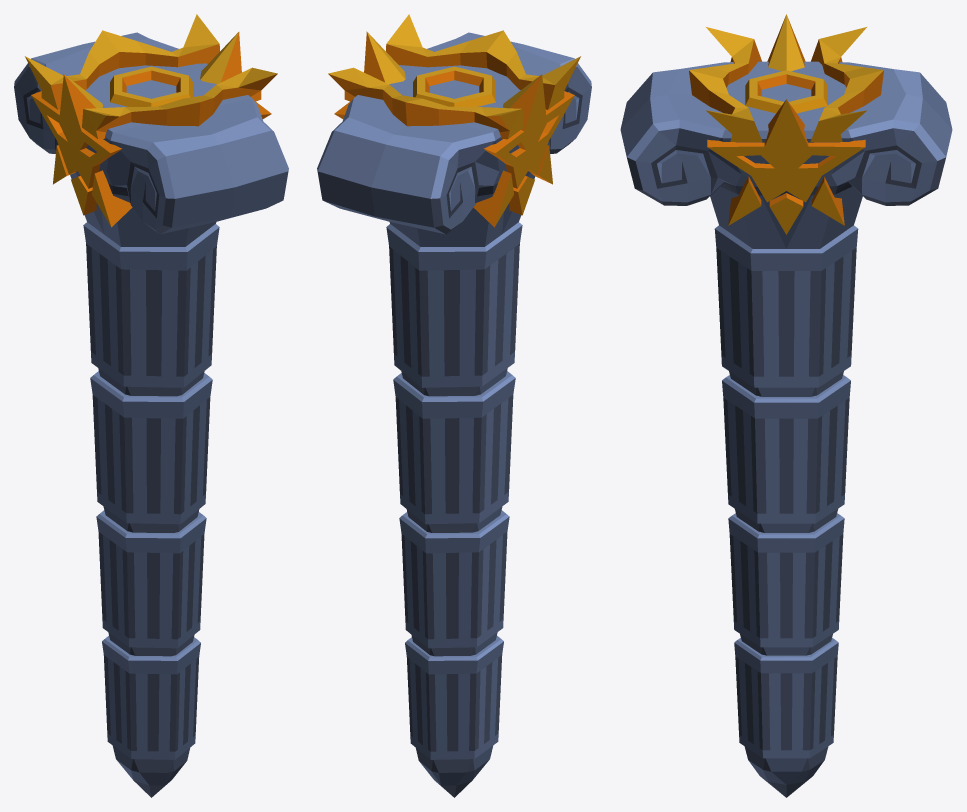
File: Prop_Pillar_Alternate.fbx
The picture shows the model from 3 angles, left to right: view 1: azimuth 30°, elevation 25°; view 2: azimuth 150°, elevation 25°; view 3: azimuth 270°, elevation 25°; orthographic projection.
Visible parts, largest first — view 1: MODEL_Shop_Pillar, MODEL_Shop_Pillar_01, MODEL_Shop_Pillar_02, MODEL_Shop_Pillar_03; view 2: MODEL_Shop_Pillar, MODEL_Shop_Pillar_01, MODEL_Shop_Pillar_02, MODEL_Shop_Pillar_03; view 3: MODEL_Shop_Pillar, MODEL_Shop_Pillar_01, MODEL_Shop_Pillar_02, MODEL_Shop_Pillar_03.
Part boxes in pixels (x1=…): MODEL_Shop_Pillar: x1=14, y1=14, x2=288, y2=396; MODEL_Shop_Pillar_01: x1=90, y1=371, x2=212, y2=532; MODEL_Shop_Pillar_02: x1=96, y1=510, x2=206, y2=656; MODEL_Shop_Pillar_03: x1=102, y1=636, x2=200, y2=797; MODEL_Shop_Pillar: x1=317, y1=14, x2=591, y2=396; MODEL_Shop_Pillar_01: x1=393, y1=371, x2=515, y2=532; MODEL_Shop_Pillar_02: x1=399, y1=510, x2=509, y2=656; MODEL_Shop_Pillar_03: x1=405, y1=636, x2=503, y2=797; MODEL_Shop_Pillar: x1=620, y1=14, x2=952, y2=396; MODEL_Shop_Pillar_01: x1=722, y1=375, x2=850, y2=532; MODEL_Shop_Pillar_02: x1=728, y1=513, x2=844, y2=655; MODEL_Shop_Pillar_03: x1=734, y1=638, x2=838, y2=797.
Bounding box in the file's own units: 267 × 1083 × 439.
